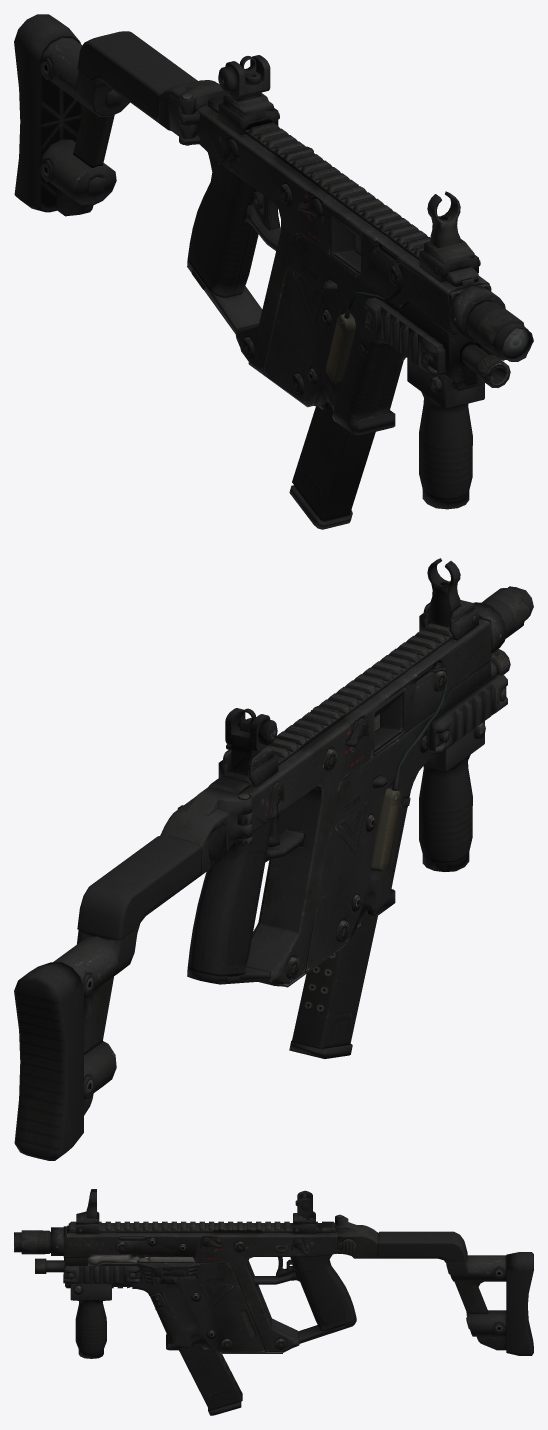
Rendered from Vector_gun.fbx.
3 views of the same model, one above another, from view 1: azimuth 30°, elevation 25°; view 2: azimuth 150°, elevation 25°; view 3: azimuth 270°, elevation 25° (orthographic). The views are drawn at different scales.
Parts seen in each view (by area): view 1: main.001, mag.001; view 2: main.001, mag.001; view 3: main.001, mag.001.
Part boxes in pixels (<box>): main.001: <box>14,14,533,509</box>; mag.001: <box>289,403,375,529</box>; main.001: <box>14,558,533,1160</box>; mag.001: <box>289,910,377,1058</box>; main.001: <box>14,1189,533,1358</box>; mag.001: <box>144,1257,242,1415</box>.
Bounding box in the file's own units: 551 × 2678 × 5697.
